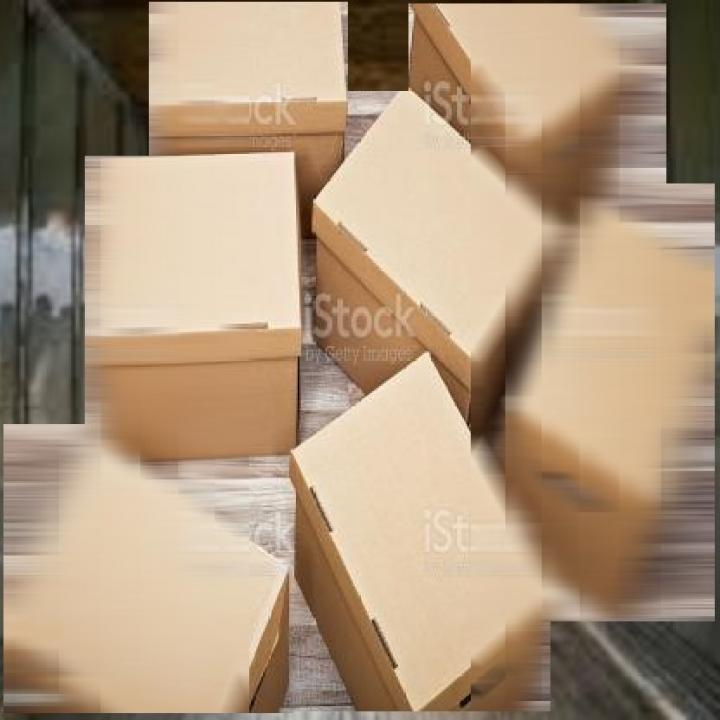box: (281, 335, 556, 719), (501, 177, 719, 630), (0, 421, 298, 718), (308, 87, 568, 422), (81, 151, 324, 463), (406, 0, 671, 254), (145, 0, 353, 177)
